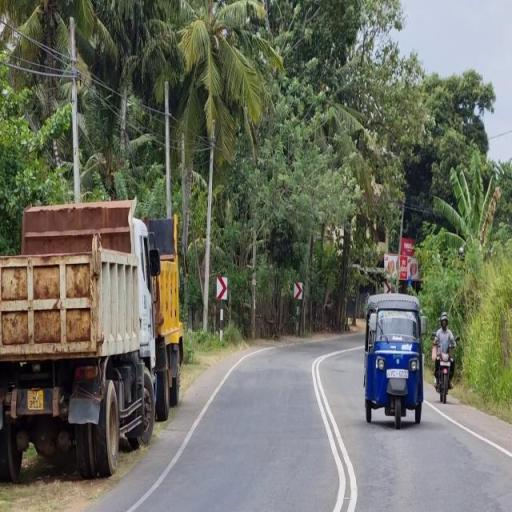double_white_line: (312, 347, 360, 511)
